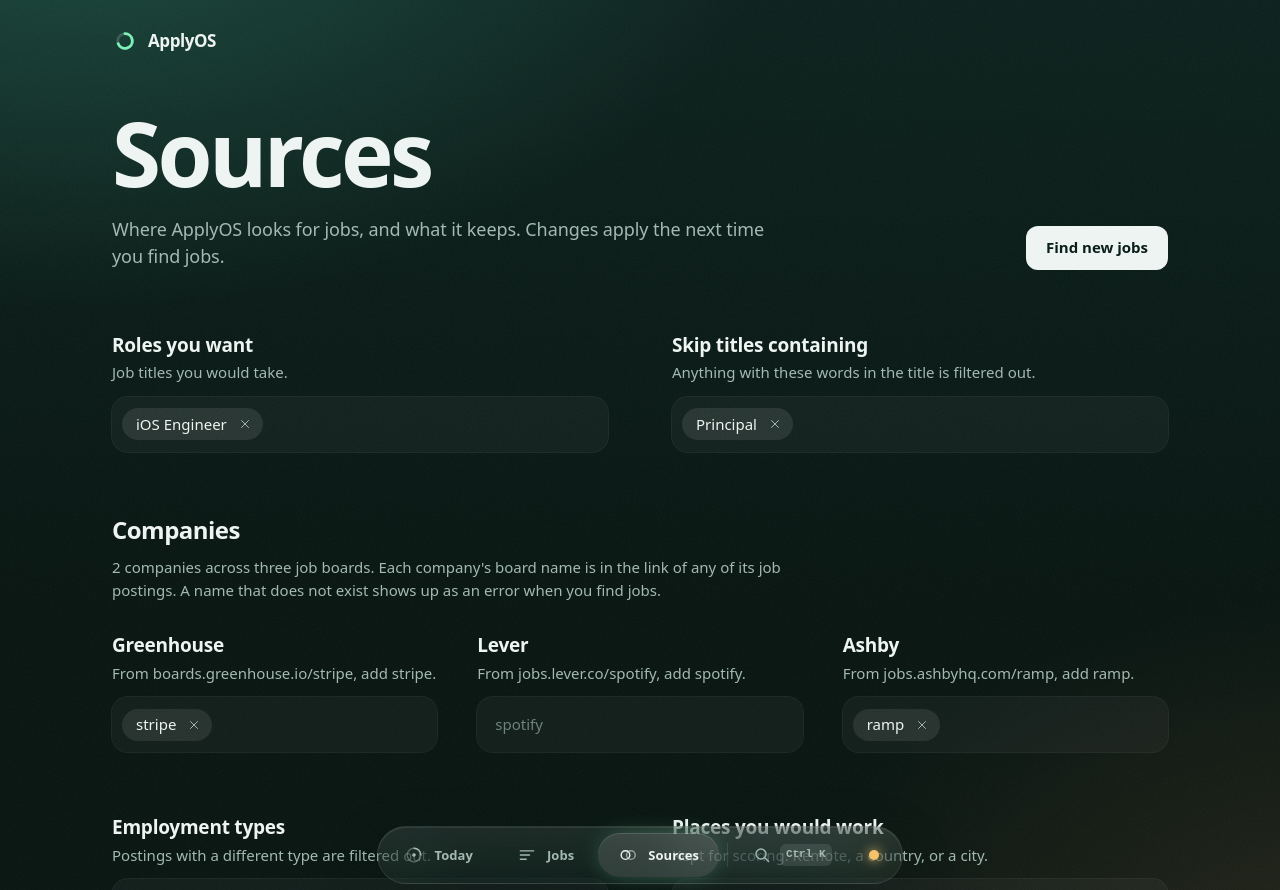
Test case: Sources page › discards changes
Expected: the text "stripe" is shown, x1=122 y1=709 x2=212 y2=741
Click the button named "Remove stripe" at (194, 725), box x1=182 y1=713 x2=206 y2=737
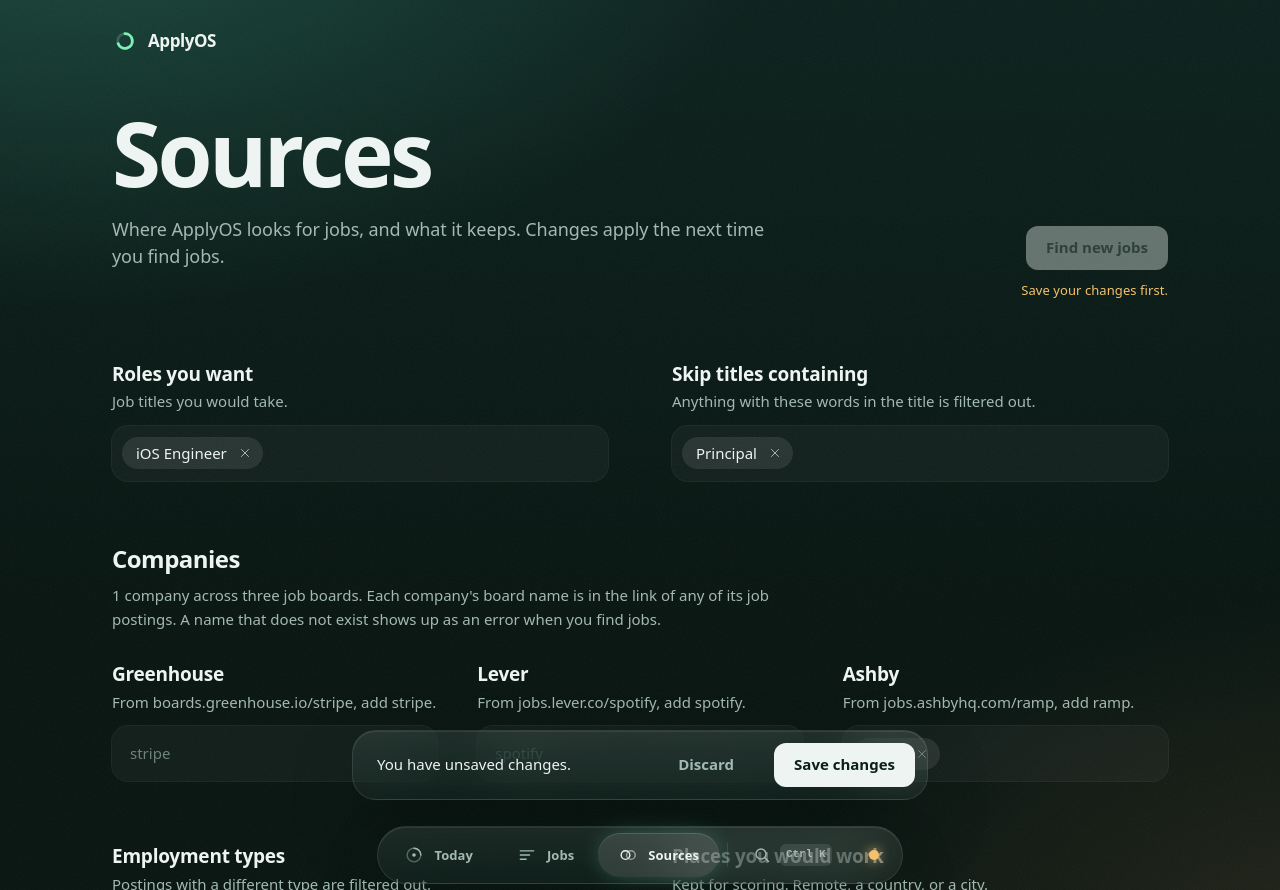
Click the button "Discard" at (706, 765), box x1=658 y1=743 x2=754 y2=787
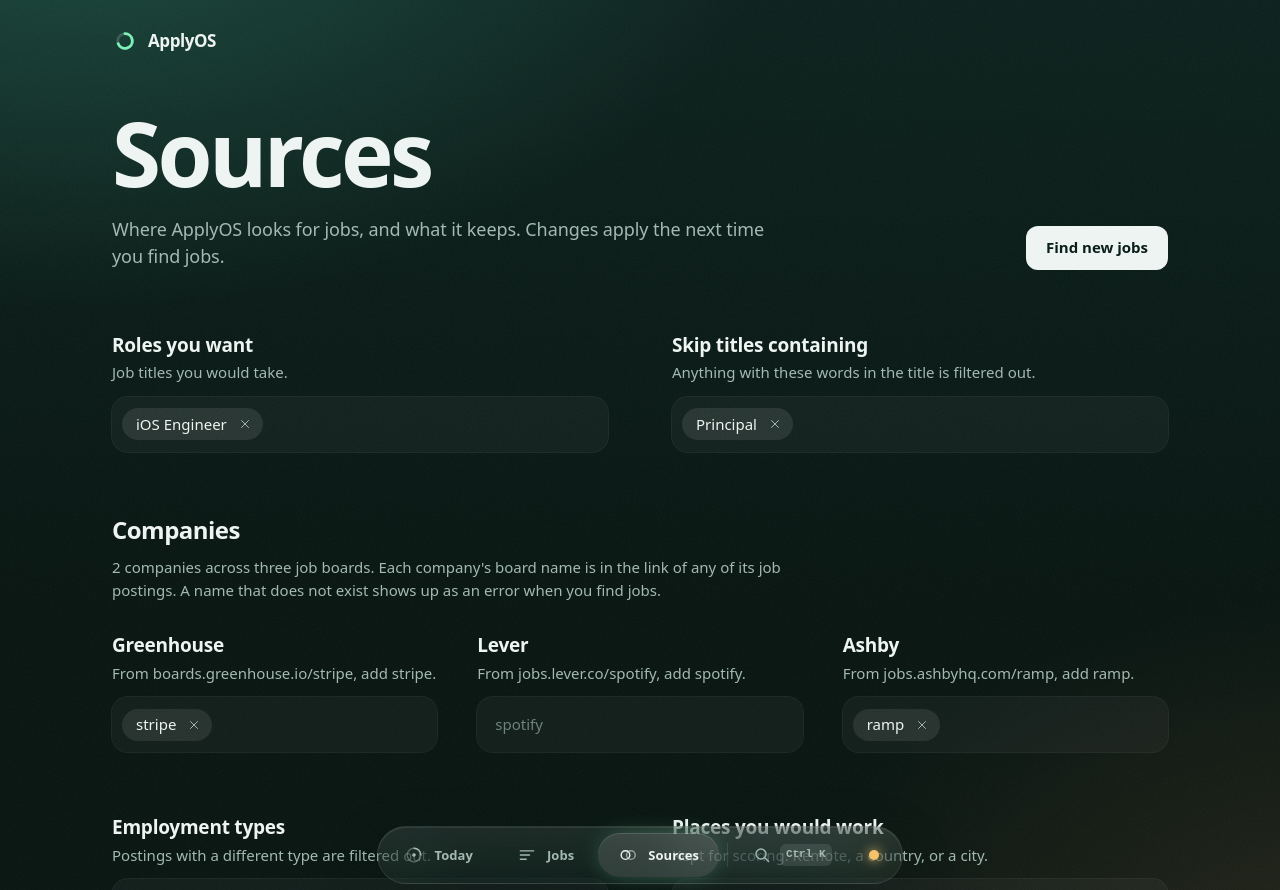
Now the text "stripe" is shown, box x1=122 y1=709 x2=212 y2=741
